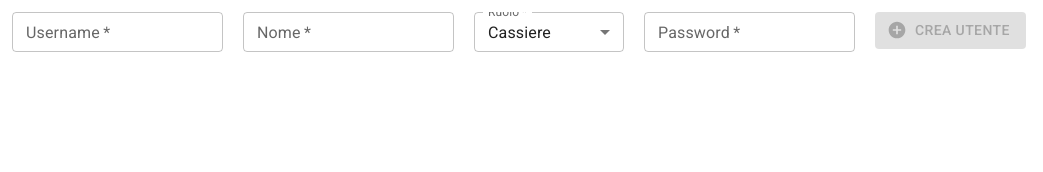
UserEdit › valida username con minimo 6 caratteri
In the field labelled "Username *": x=118, y=32 [12,12,223,52], type "user1"
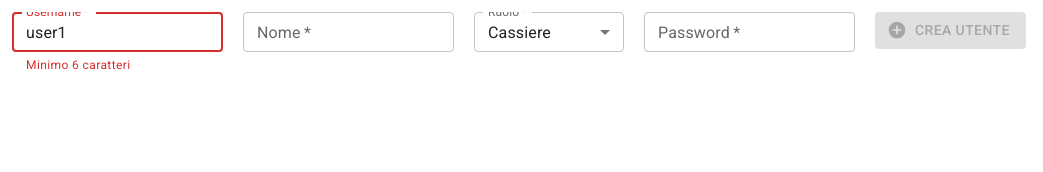
Expected: the button "Crea Utente" is disabled, [875,12,1026,48]
Now the text "Minimo 6 caratteri" is shown, box [26,58,131,72]
